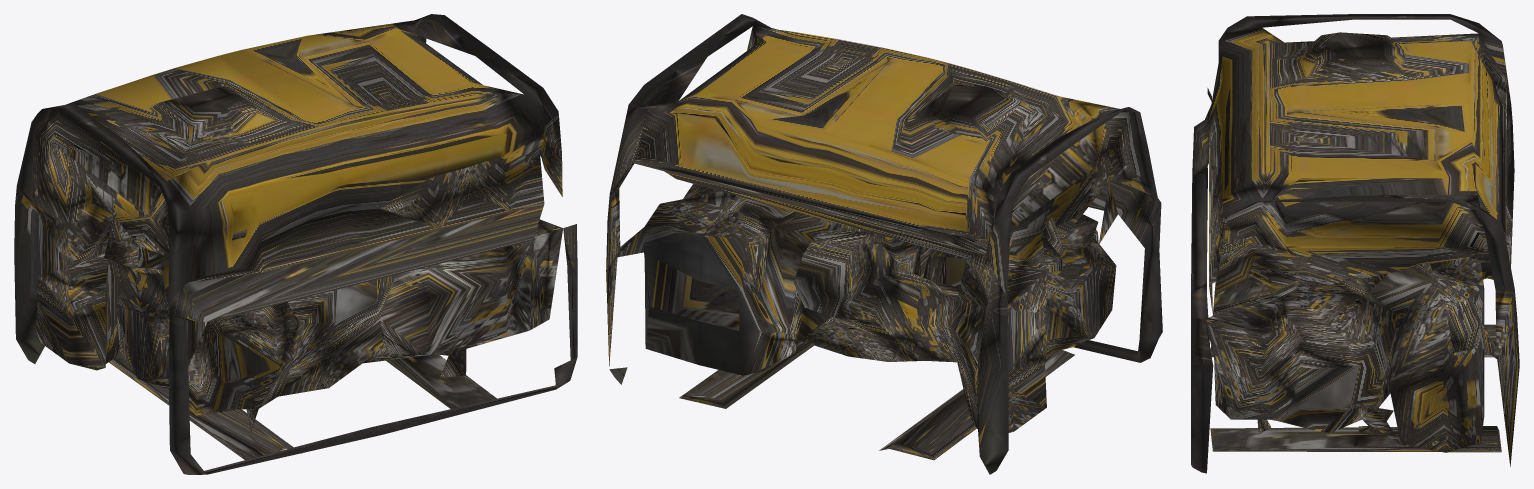
The model's file is portable_generator_lod1.glb.
3 renders of one model, left to right at view 1: azimuth 30°, elevation 25°; view 2: azimuth 150°, elevation 25°; view 3: azimuth 270°, elevation 25°, orthographic.
Parts seen in each view (by area): view 1: portable_generator; view 2: portable_generator; view 3: portable_generator.
Part boxes in pixels (bbox=[...]): portable_generator: bbox=[14, 14, 577, 474]; portable_generator: bbox=[606, 14, 1162, 474]; portable_generator: bbox=[1191, 14, 1519, 473].
Bounding box in the file's own units: 0.7913 × 0.5742 × 0.5621.
Materials: 2 (2 with a texture image).
